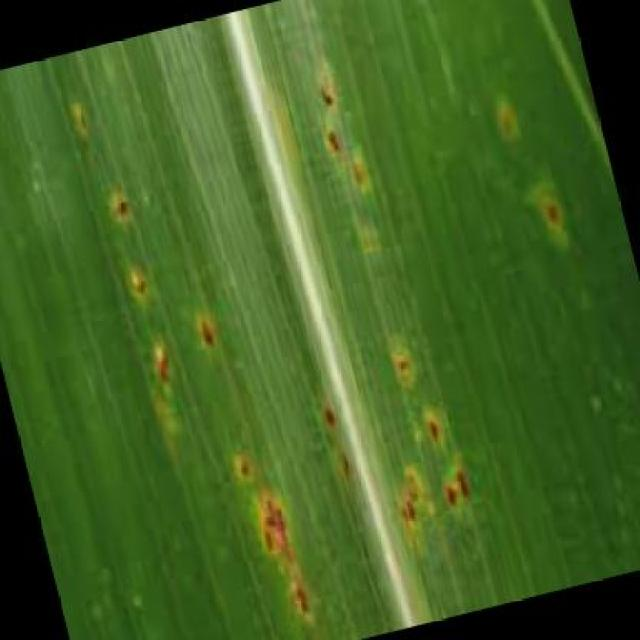Corn_Rust: (60, 98, 526, 592)
